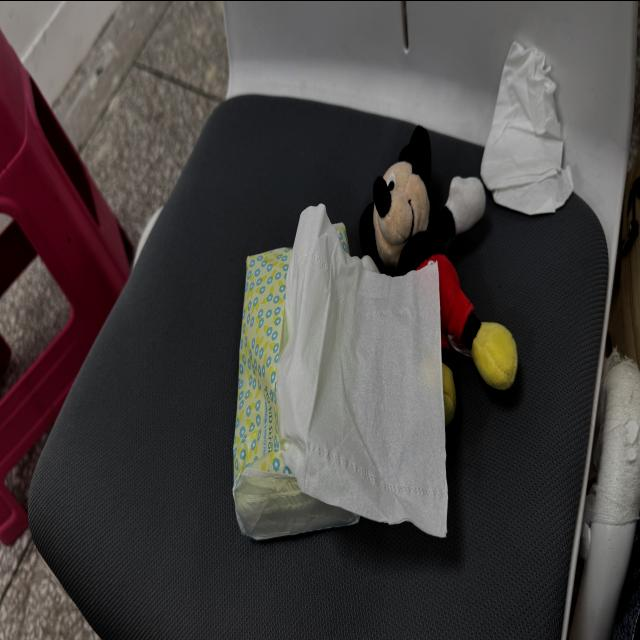mickey: (360, 126, 517, 423)
tissue: (278, 204, 447, 535), (233, 247, 359, 538), (481, 41, 572, 213), (584, 350, 639, 524)
